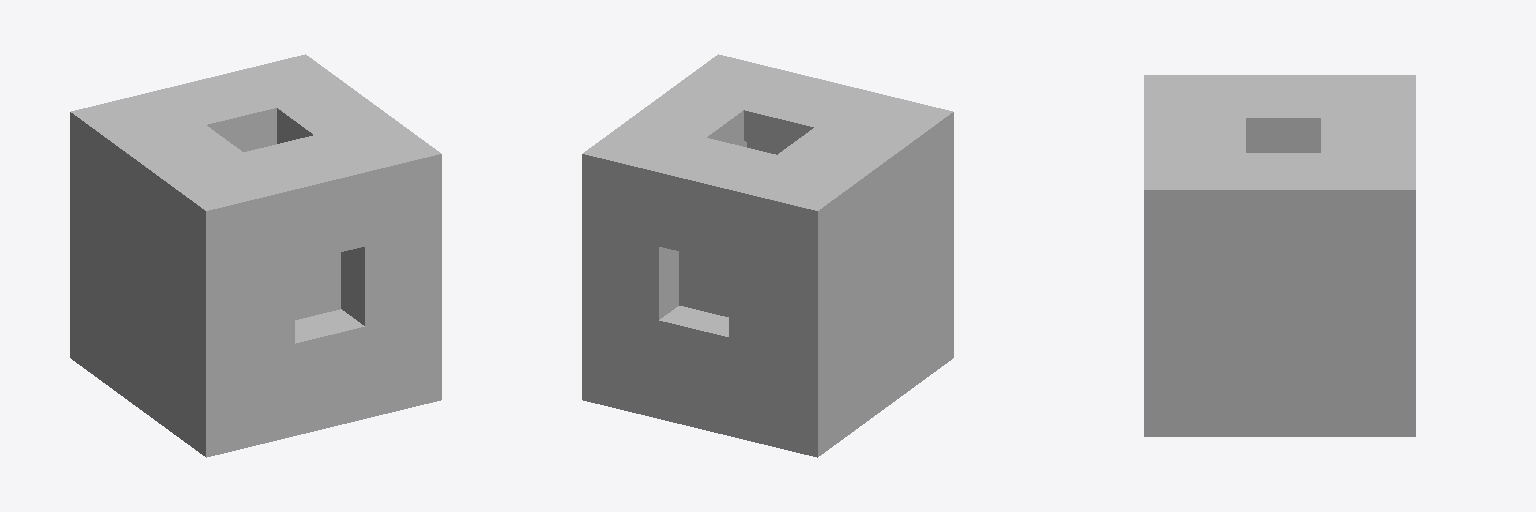
Rendered from Bullet.obj.
3 views of the same model, side by side, from view 1: azimuth 30°, elevation 25°; view 2: azimuth 150°, elevation 25°; view 3: azimuth 270°, elevation 25° (orthographic).
Parts seen in each view (by area): view 1: object 1; view 2: object 1; view 3: object 1.
Part boxes in pixels (x1,y1,x2,y2): object 1: (70, 54, 441, 457); object 1: (582, 54, 953, 457); object 1: (1144, 75, 1415, 436).
Size of the model in its own units: 4 by 4 by 4.